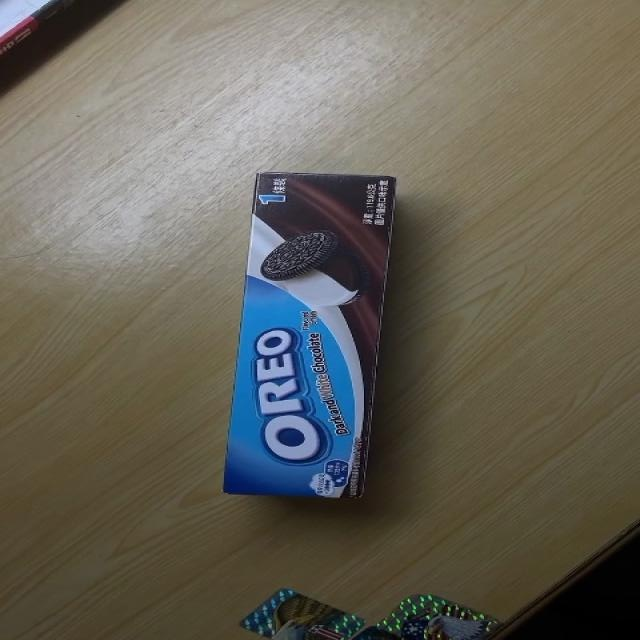Oreo: (221, 171, 400, 501)
